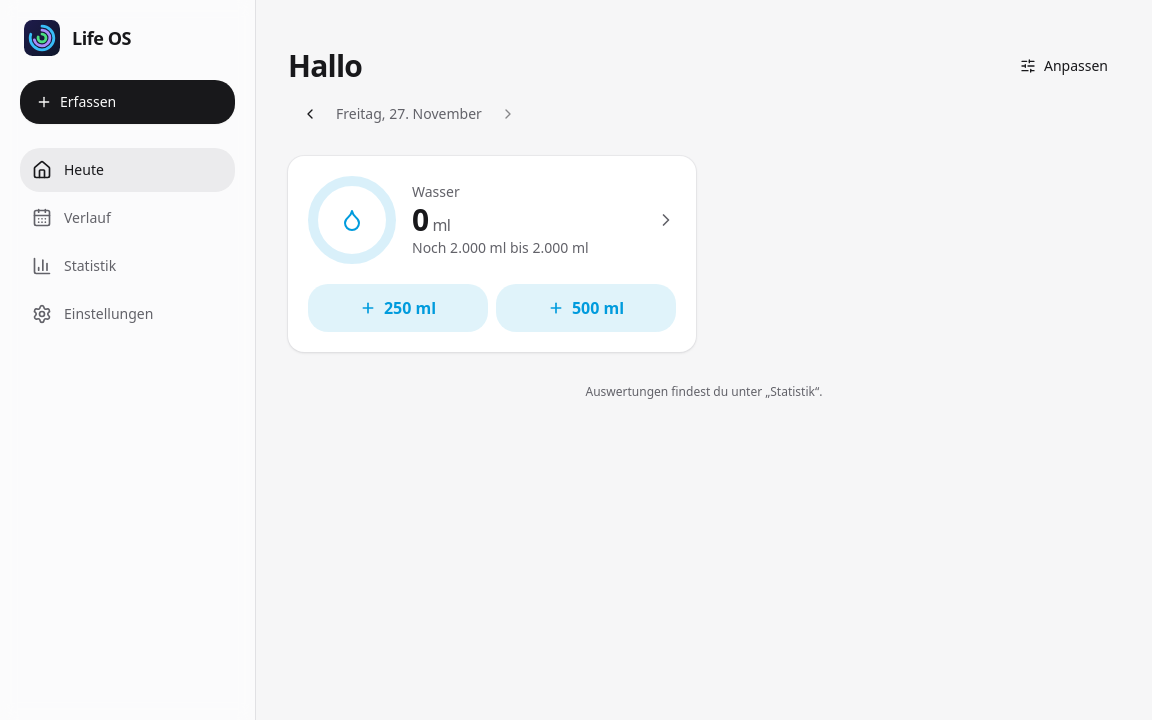
Scenario: dashboard with water widget › adds water with one tap and allows undo
The width and height of the screenshot is (1152, 720).
What coordinates should you click on to do the following:
click the button with aria-label "250 ml Wasser hinzufügen"
I would click on:
 (398, 308)
Its box is [308,284,488,332].
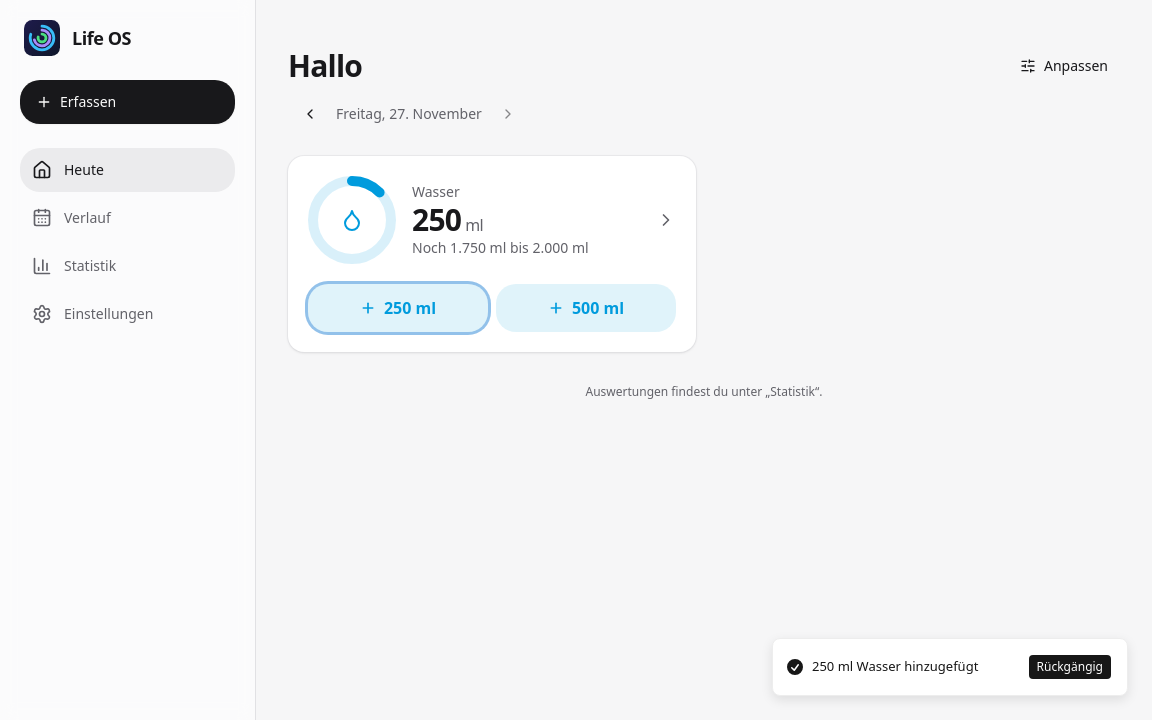
Now the text "Noch 1.750 ml bis 2.000 ml" is shown, box [412,238,589,257]
What coordinates should you click on to do the following:
click the button "Rückgängig"
I would click on:
 (1070, 667)
Its box is [1029,655,1111,679].
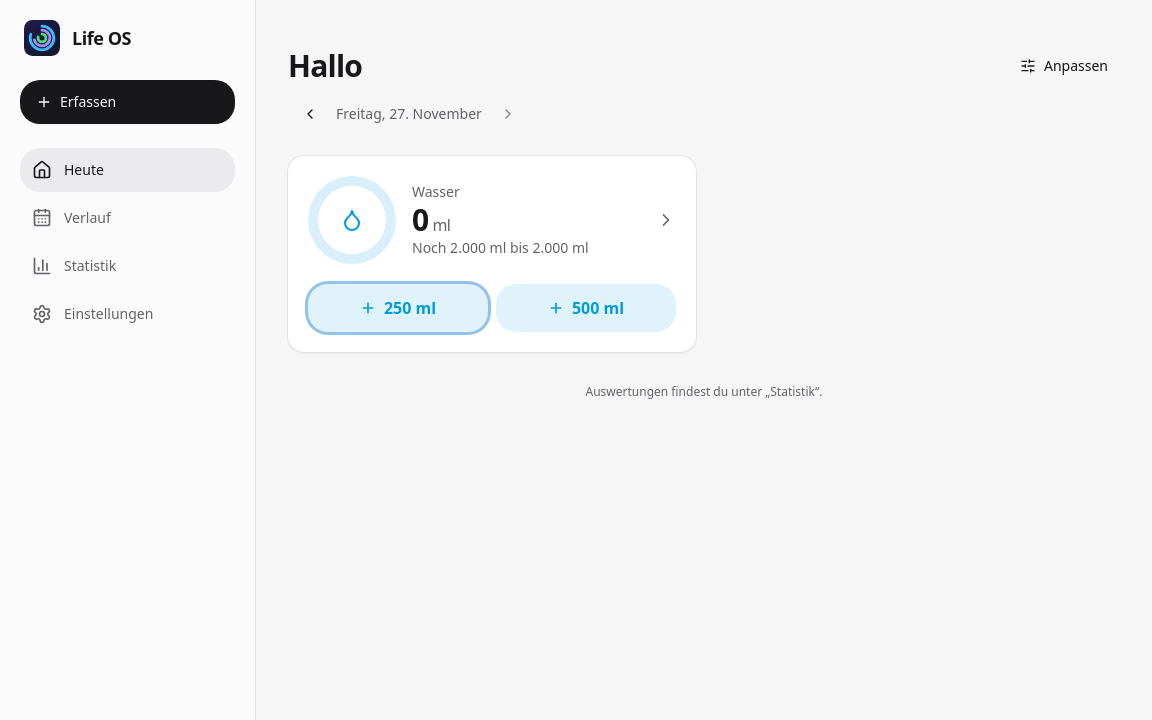
Now the text "Noch 2.000 ml bis 2.000 ml" is shown, box [412,238,589,257]
